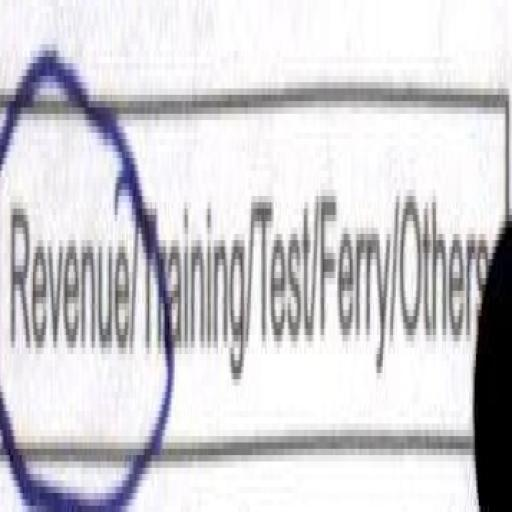check: (0, 40, 141, 508)
